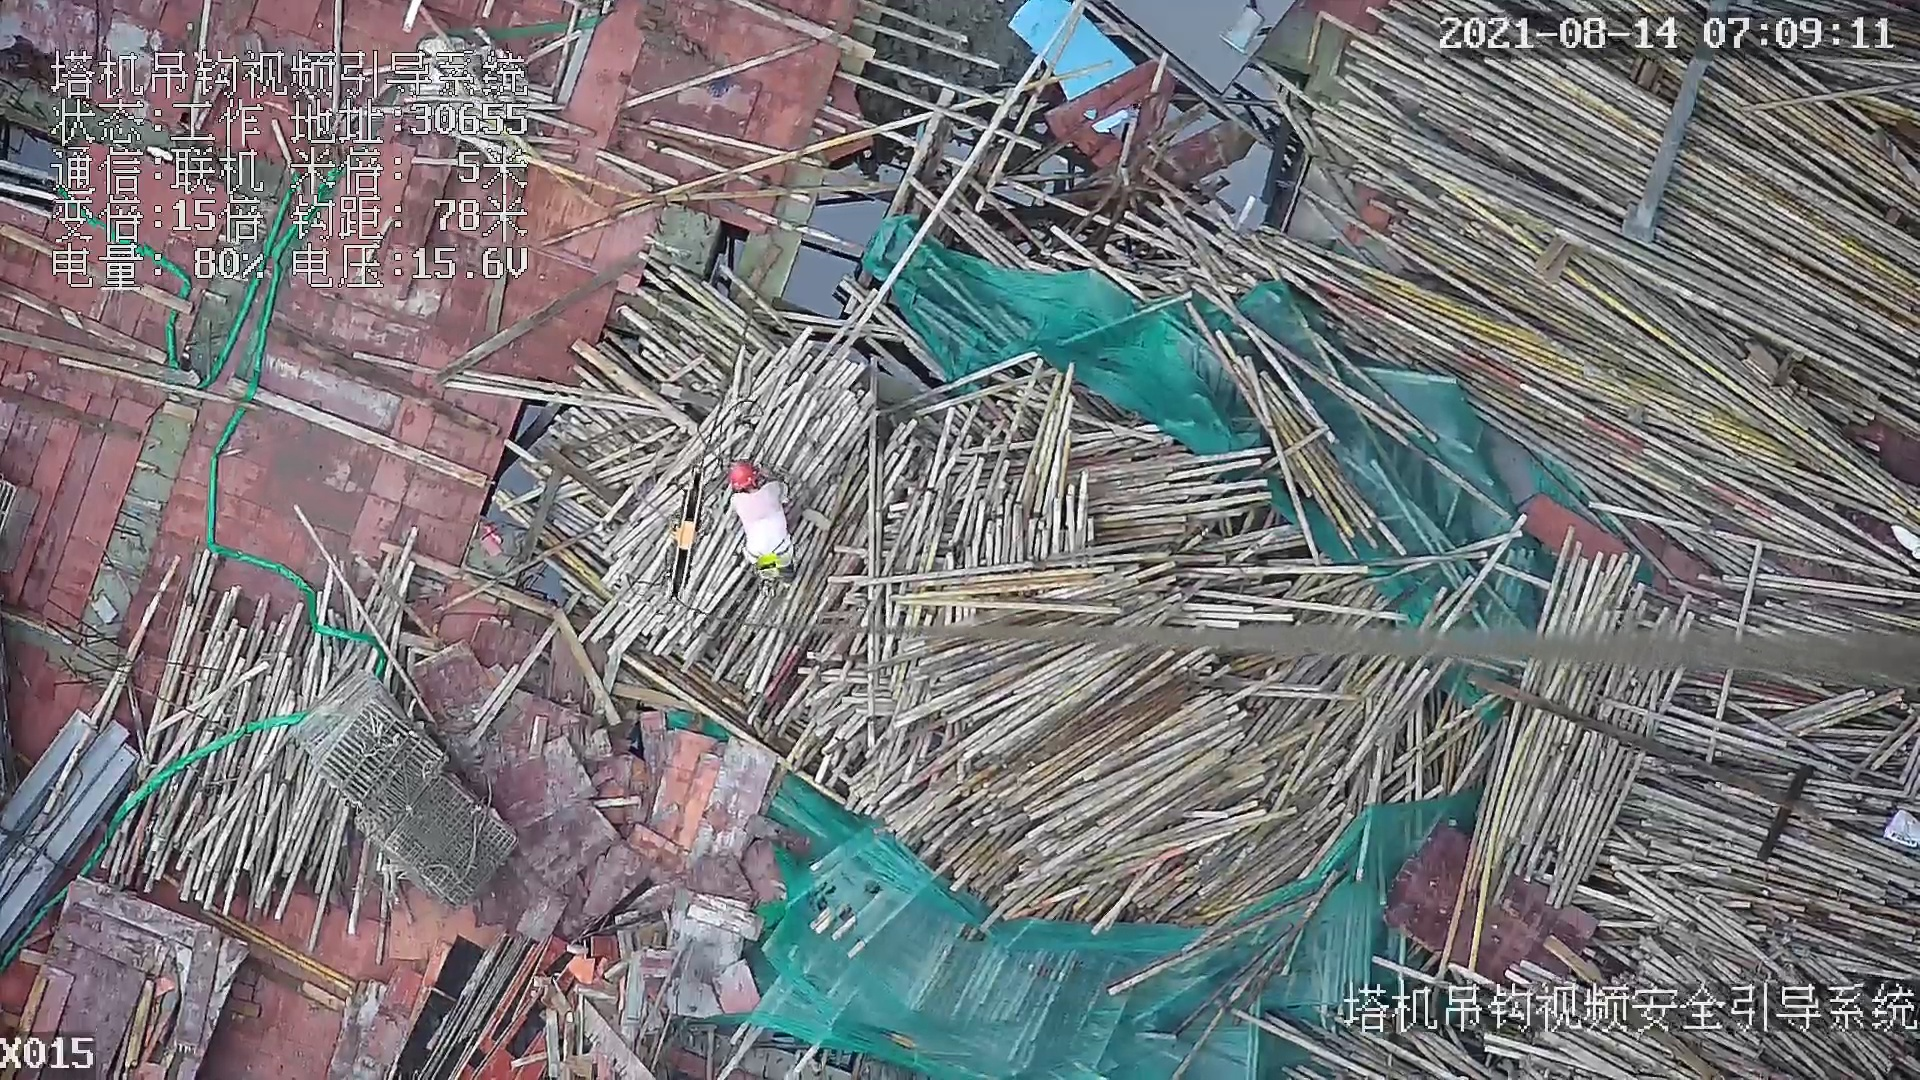helmet: (727, 460, 756, 489)
hook: (665, 459, 710, 601)
person: (732, 467, 803, 567)
